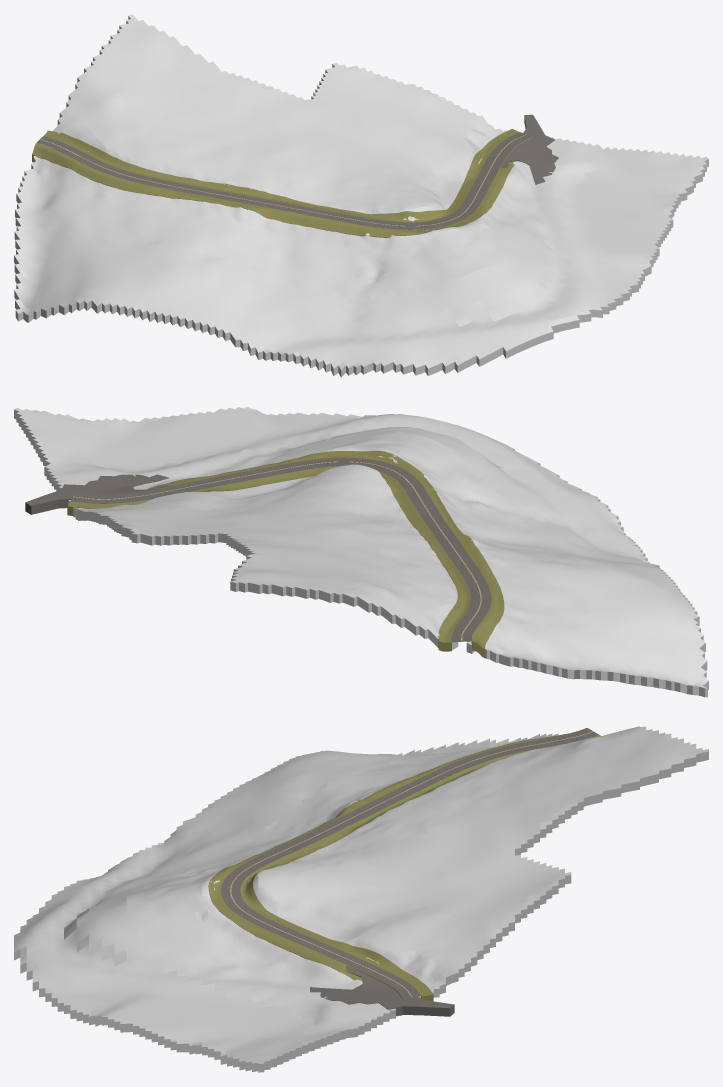
The model's file is conz_183.glb.
3 renders of one model, top to bottom at view 1: azimuth 30°, elevation 25°; view 2: azimuth 150°, elevation 25°; view 3: azimuth 270°, elevation 25°, orthographic. The views are drawn at different scales.
Parts seen in each view (by area): view 1: terrain183, road183, verge183L, verge183R, lot183_12; view 2: terrain183, road183, verge183R, verge183L, lot183_12, paint_yellow183; view 3: terrain183, road183, verge183R, verge183L, lot183_12, paint_yellow183.
Part boxes in pixels (bbox=[...]): terrain183: bbox=[14, 14, 708, 377]; road183: bbox=[37, 132, 531, 229]; verge183L: bbox=[32, 137, 532, 238]; verge183R: bbox=[44, 129, 519, 222]; lot183_12: bbox=[501, 114, 558, 184]; terrain183: bbox=[14, 406, 708, 697]; road183: bbox=[71, 457, 491, 642]; verge183R: bbox=[67, 466, 470, 651]; verge183L: bbox=[146, 450, 504, 658]; lot183_12: bbox=[25, 474, 171, 514]; paint_yellow183: bbox=[73, 461, 481, 641]; terrain183: bbox=[14, 726, 708, 1072]; road183: bbox=[221, 728, 598, 998]; verge183R: bbox=[240, 735, 600, 1001]; verge183L: bbox=[208, 728, 587, 998]; lot183_12: bbox=[310, 965, 454, 1016]; paint_yellow183: bbox=[230, 731, 593, 996].
Bounding box in the file's own units: 266 × 60.16 × 222.
